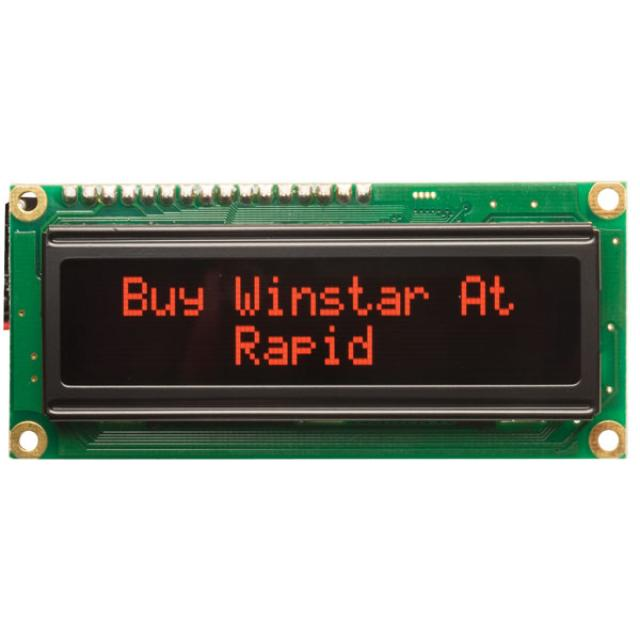Display: (13, 165, 640, 473)
